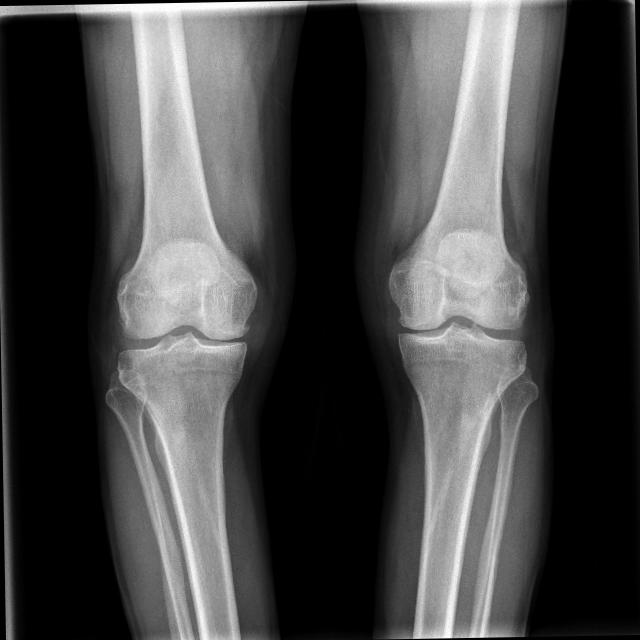Knee: (385, 262, 533, 392), (113, 268, 260, 398)
